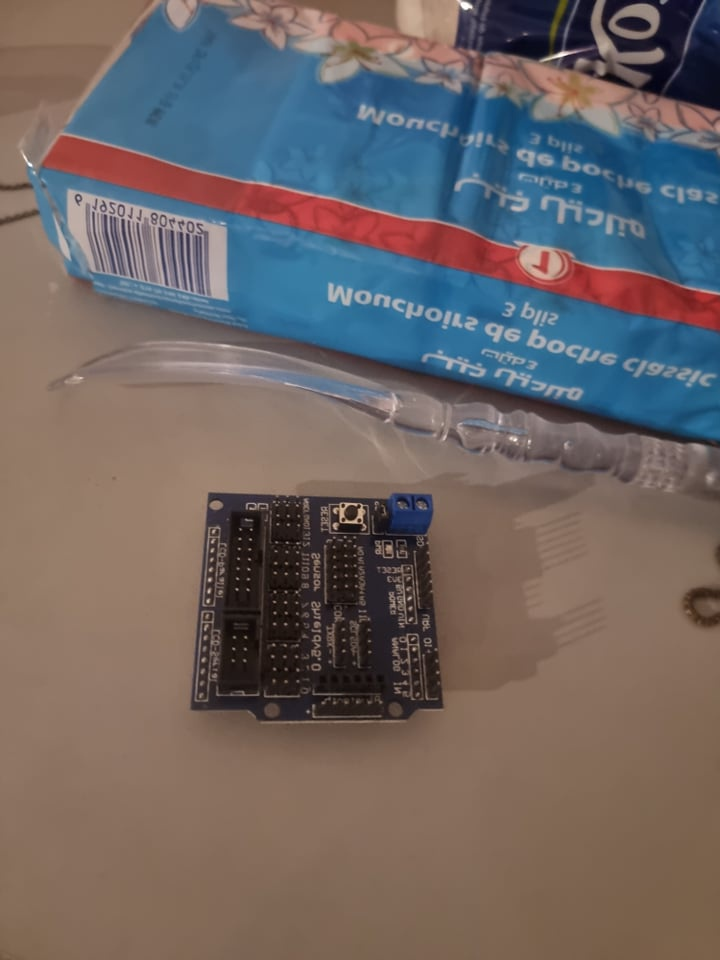5V EXPANSION: (190, 490, 446, 723)
